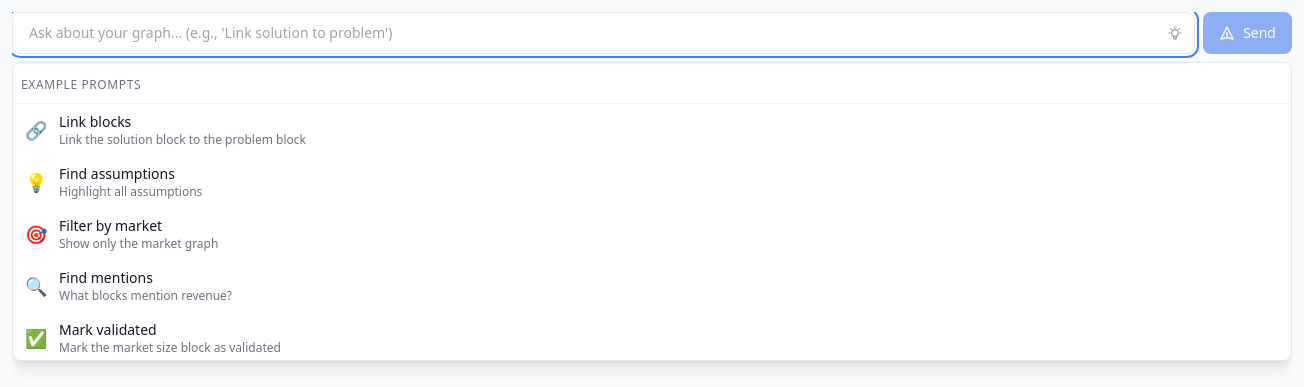
it: GraphPrompt › T5.2.2: Click Suggestion › should populate input when suggestion is clicked
Focus the field with test id "graph-prompt-input": (604, 33) [12,12,1195,54]
# Click the suggestion
Click the text "Link blocks": (95, 122) [59,112,131,131]
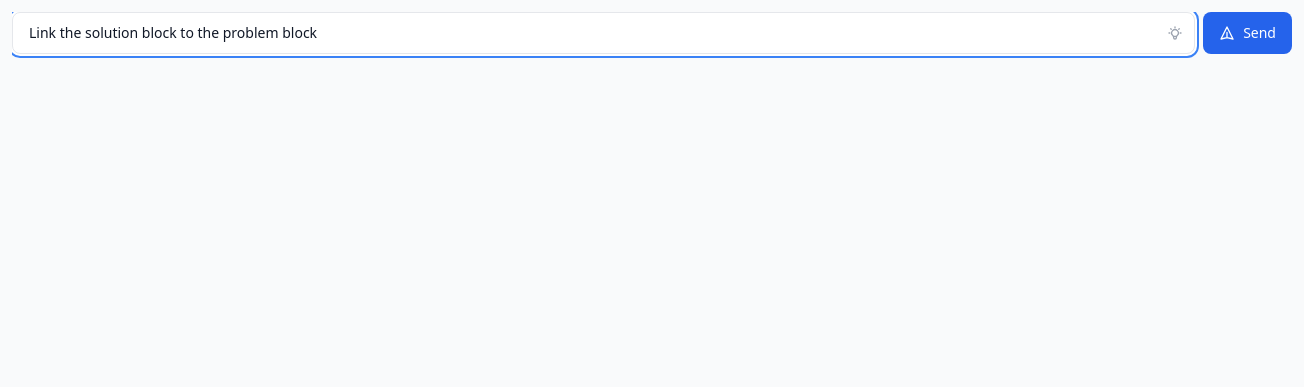
Result: the field with test id "graph-prompt-input" holds "Link the solution block to the problem block" at [12,12,1195,54]
